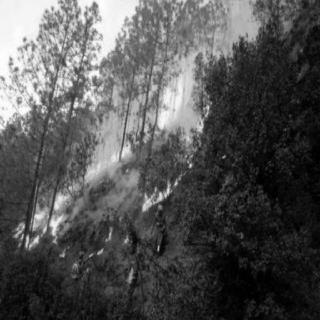Fire: (124, 46, 214, 210), (9, 147, 123, 256)
